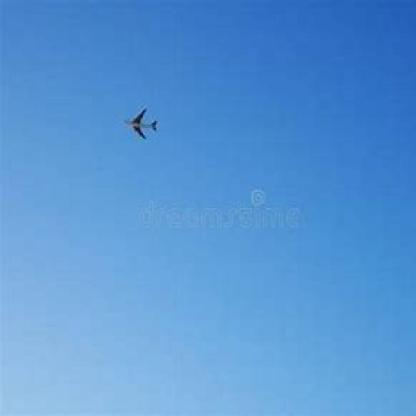plane: (121, 102, 168, 141)
